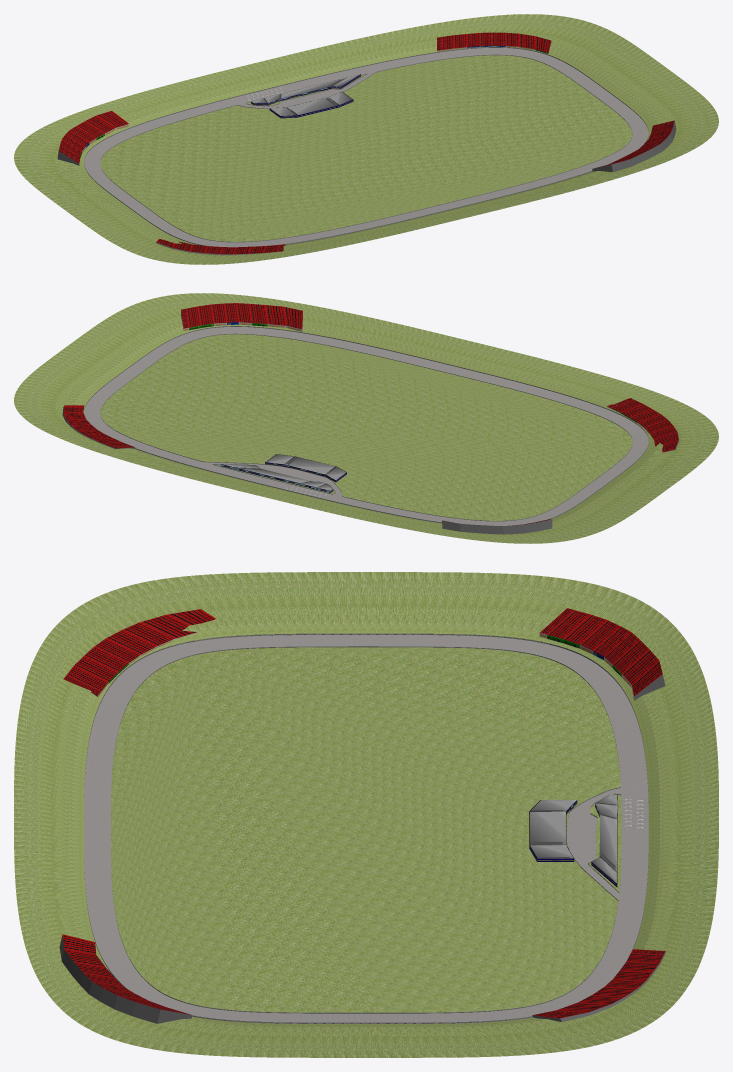
File: RacingOval.fbx
The picture shows the model from 3 angles, top to bottom: view 1: azimuth 30°, elevation 25°; view 2: azimuth 150°, elevation 25°; view 3: azimuth 270°, elevation 25°; orthographic projection. The views are drawn at different scales.
Parts seen in each view (by area): view 1: RacingOval, Bleachers.002, Bleachers.003, Bleachers, Bleachers.001, Garage, MissionControlBuilding, PitEntrance/Exit; view 2: RacingOval, Bleachers, Bleachers.001, Bleachers.003, Bleachers.002, Garage, MissionControlBuilding, PitEntrance/Exit; view 3: RacingOval, Bleachers.002, Bleachers.001, Bleachers, Bleachers.003, Garage, PitEntrance/Exit, MissionControlBuilding.
Part boxes in pixels (left/top/right/bottom): RacingOval: left=14, top=14, right=718, bottom=264; Bleachers.002: left=57, top=111, right=129, bottom=165; Bleachers.003: left=437, top=32, right=551, bottom=53; Bleachers: left=592, top=120, right=676, bottom=171; Bleachers.001: left=156, top=239, right=285, bottom=255; Garage: left=269, top=91, right=353, bottom=118; MissionControlBuilding: left=251, top=74, right=360, bottom=105; PitEntrance/Exit: left=237, top=72, right=376, bottom=109; RacingOval: left=14, top=293, right=718, bottom=543; Bleachers: left=181, top=303, right=302, bottom=331; Bleachers.001: left=607, top=398, right=679, bottom=452; Bleachers.003: left=62, top=405, right=135, bottom=449; Bleachers.002: left=442, top=519, right=552, bottom=534; Garage: left=265, top=454, right=346, bottom=482; MissionControlBuilding: left=220, top=464, right=333, bottom=492; PitEntrance/Exit: left=204, top=461, right=342, bottom=496; RacingOval: left=14, top=572, right=718, bottom=1057; Bleachers.002: left=539, top=608, right=665, bottom=700; Bleachers.001: left=63, top=609, right=215, bottom=696; Bleachers: left=59, top=934, right=191, bottom=1023; Bleachers.003: left=532, top=949, right=665, bottom=1021; Garage: left=529, top=800, right=577, bottom=861; PitEntrance/Exit: left=566, top=787, right=621, bottom=900; MissionControlBuilding: left=591, top=794, right=618, bottom=887.
Size of the model in its own units: 128005 by 2718 by 78510.
